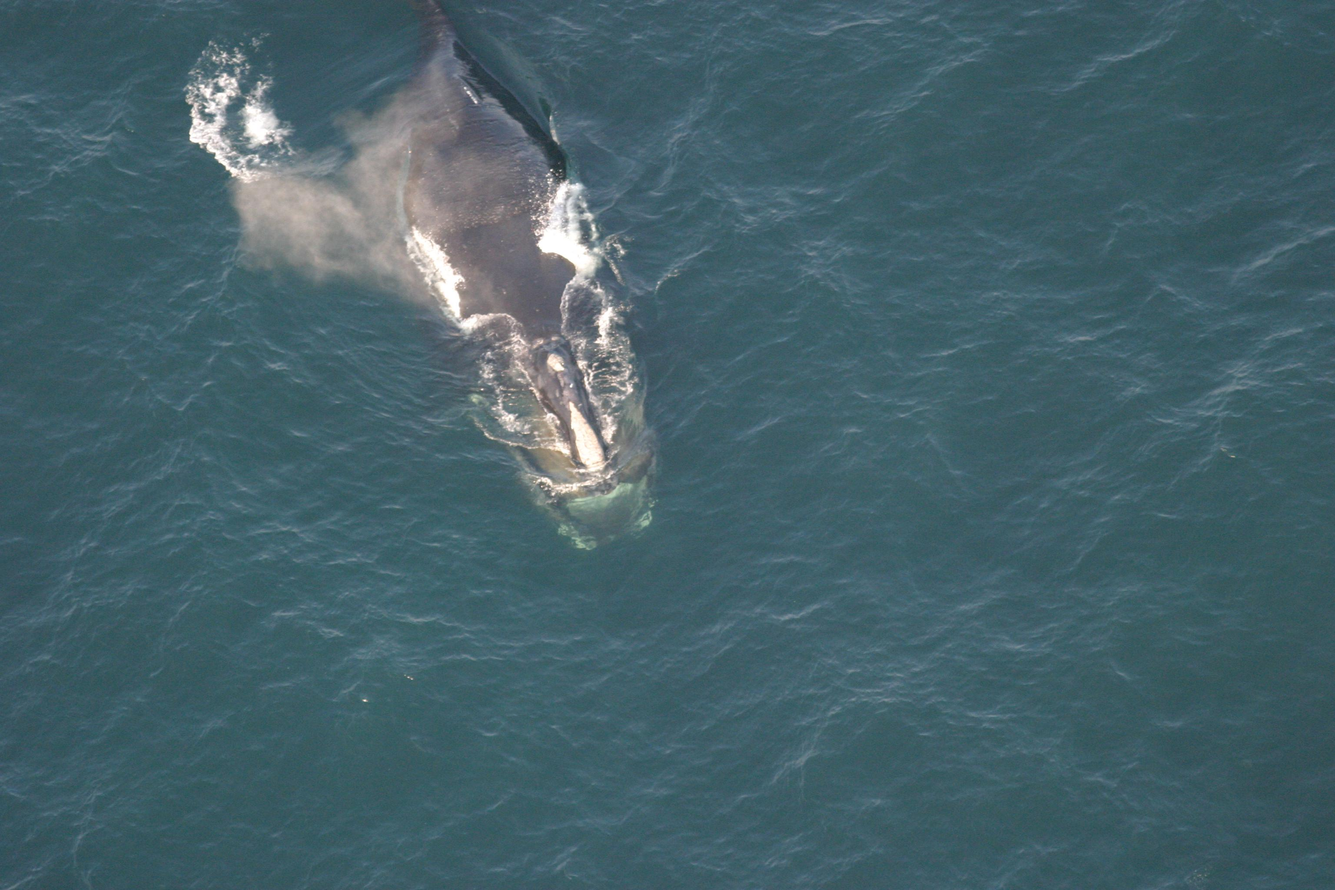whale: (361, 0, 666, 558)
